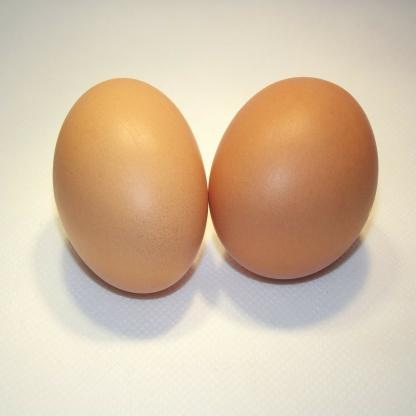egg: (208, 76, 378, 285), (52, 75, 204, 298)
